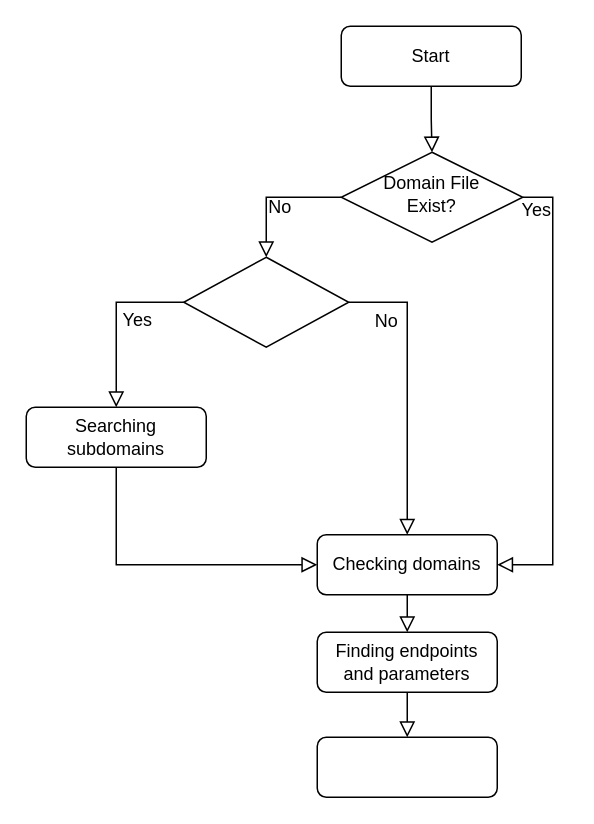
Image size: 594x824. Some labels were removed from this diagram. The centre of each missing label's shape, as x and y in pixels:
"Finding XSS vulnerabilities" goes at pixel 406 766.
"Searching subdomains?" goes at pixel 265 301.
